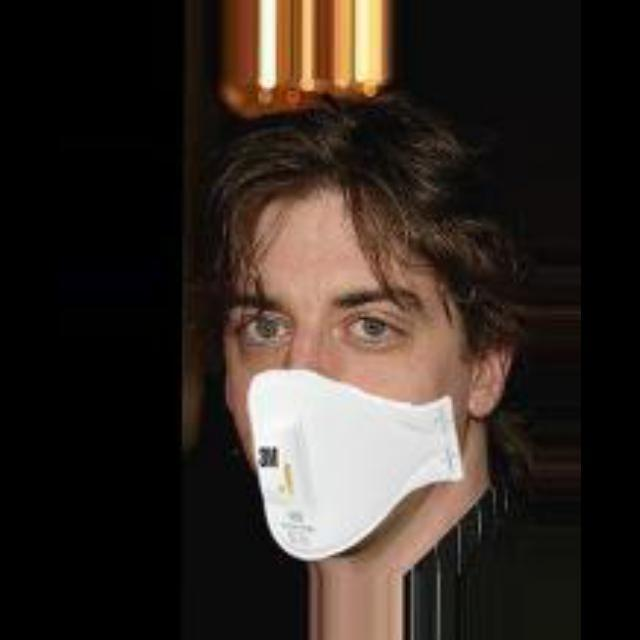suspicion: (178, 143, 530, 554)
